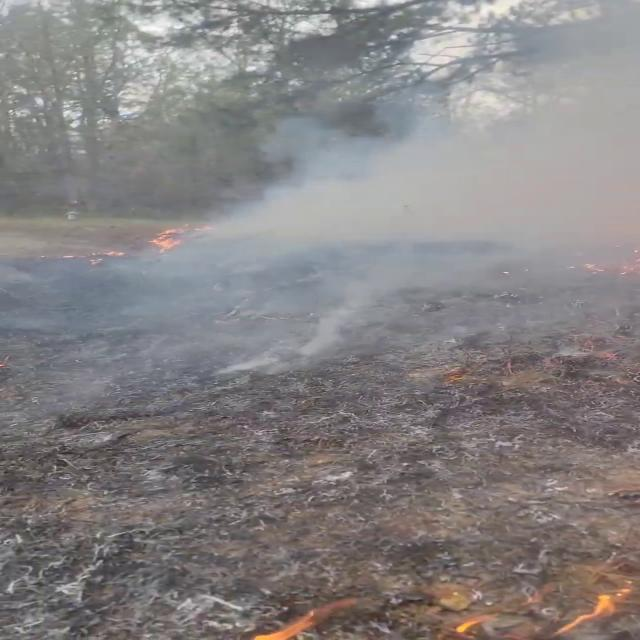Smoke: (31, 62, 640, 386)
